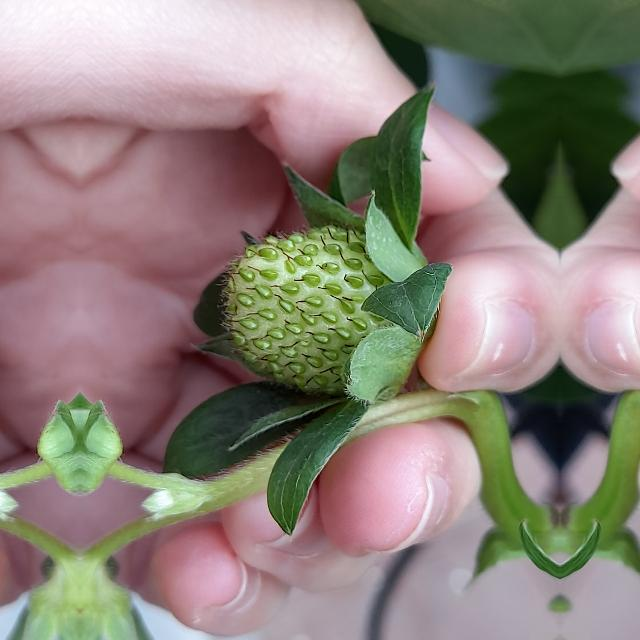Health_25: (214, 222, 398, 396)
